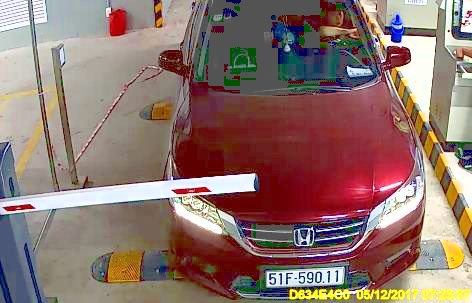plate: (260, 258, 348, 288)
